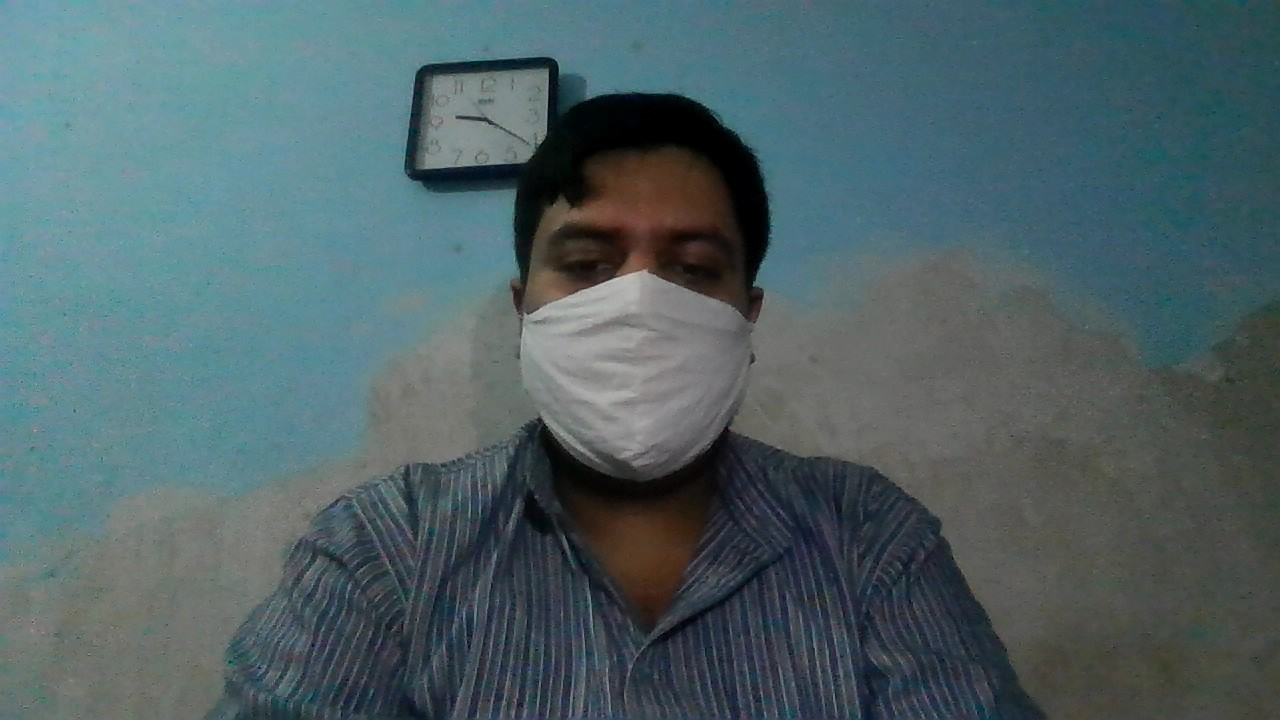Mask: (504, 269, 765, 484)
